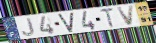4: (39, 15, 56, 36), (82, 10, 97, 31)
J: (21, 17, 36, 37)
T: (100, 7, 116, 29)
V: (116, 5, 136, 27), (57, 11, 75, 33)
